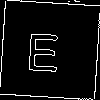E: (24, 25, 62, 72)
